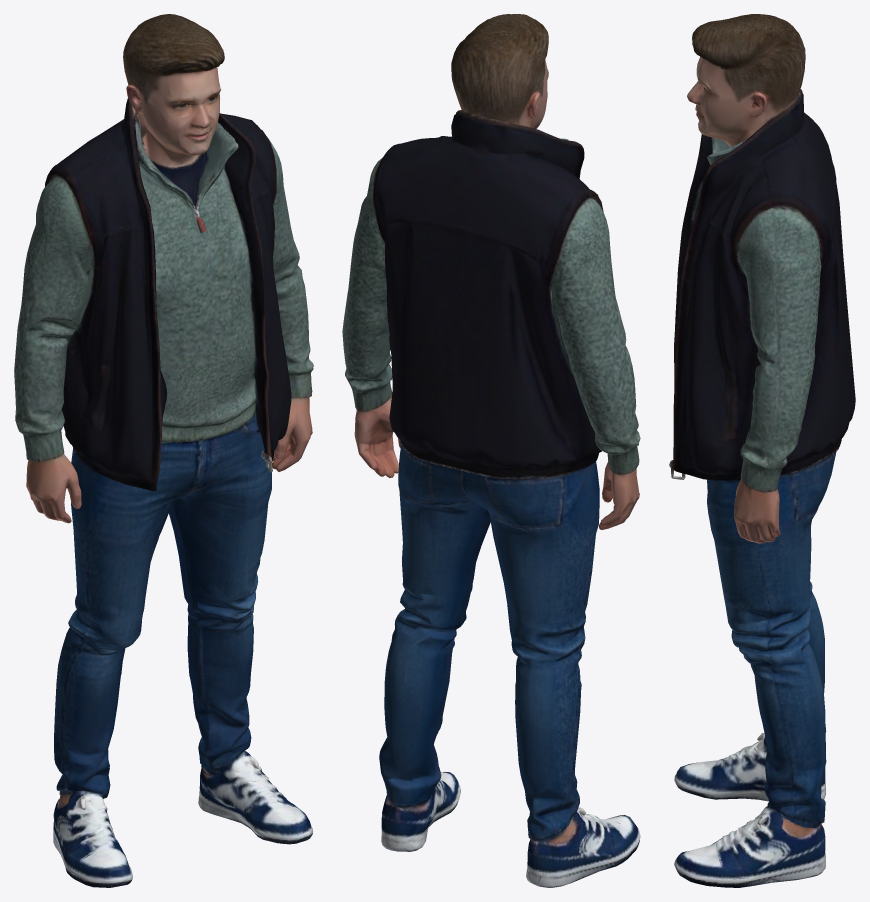
File: bradley.glb
3 views of the same model, side by side, from view 1: azimuth 30°, elevation 25°; view 2: azimuth 150°, elevation 25°; view 3: azimuth 270°, elevation 25° (orthographic).
Parts seen in each view (by area): view 1: model; view 2: model; view 3: model.
Part boxes in pixels (x1,y1,x2,y2): model: (14, 14, 313, 887); model: (342, 14, 640, 887); model: (669, 14, 855, 887).
Bounding box in the file's own units: 0.3605 × 0.9782 × 0.2026.
Materials: 1 (1 with a texture image).
